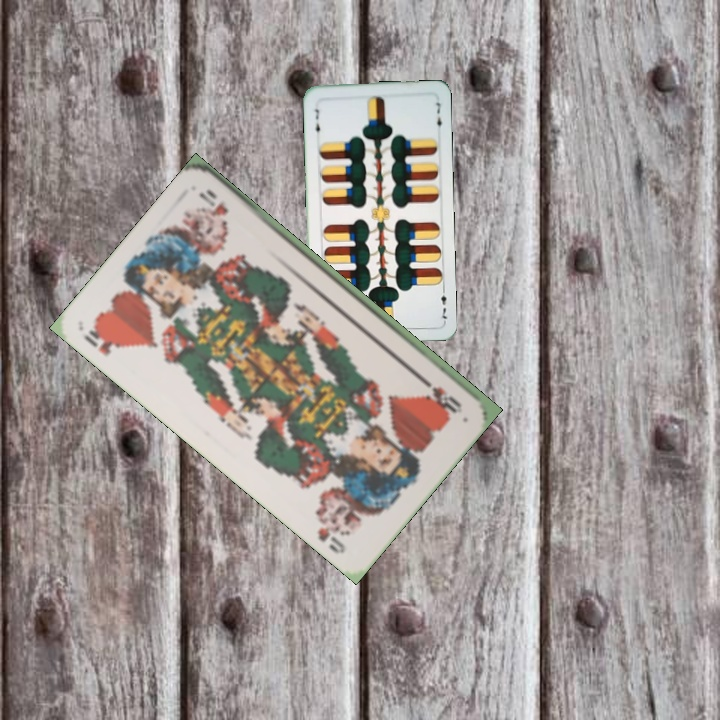E7: (436, 283, 449, 324), (309, 105, 322, 139)
HO: (416, 373, 464, 414), (79, 320, 126, 359)
